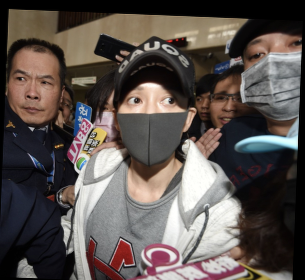with_mask: (116, 79, 187, 165), (240, 33, 299, 119), (89, 100, 119, 144)
without_mask: (6, 65, 60, 124), (207, 86, 249, 133), (195, 92, 214, 122)
